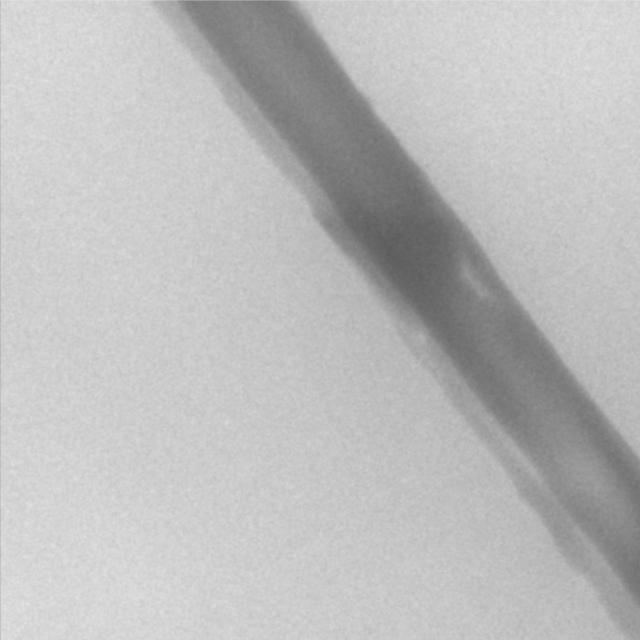unfused: (458, 259, 491, 300)
